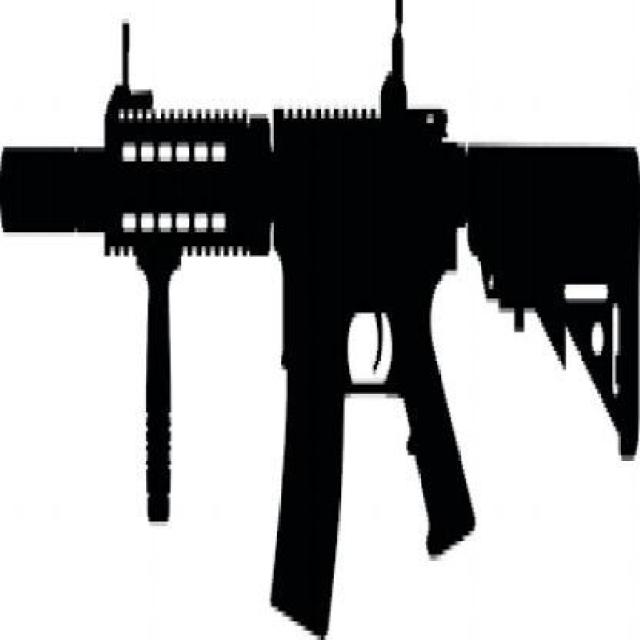weapon: (0, 39, 637, 586)
